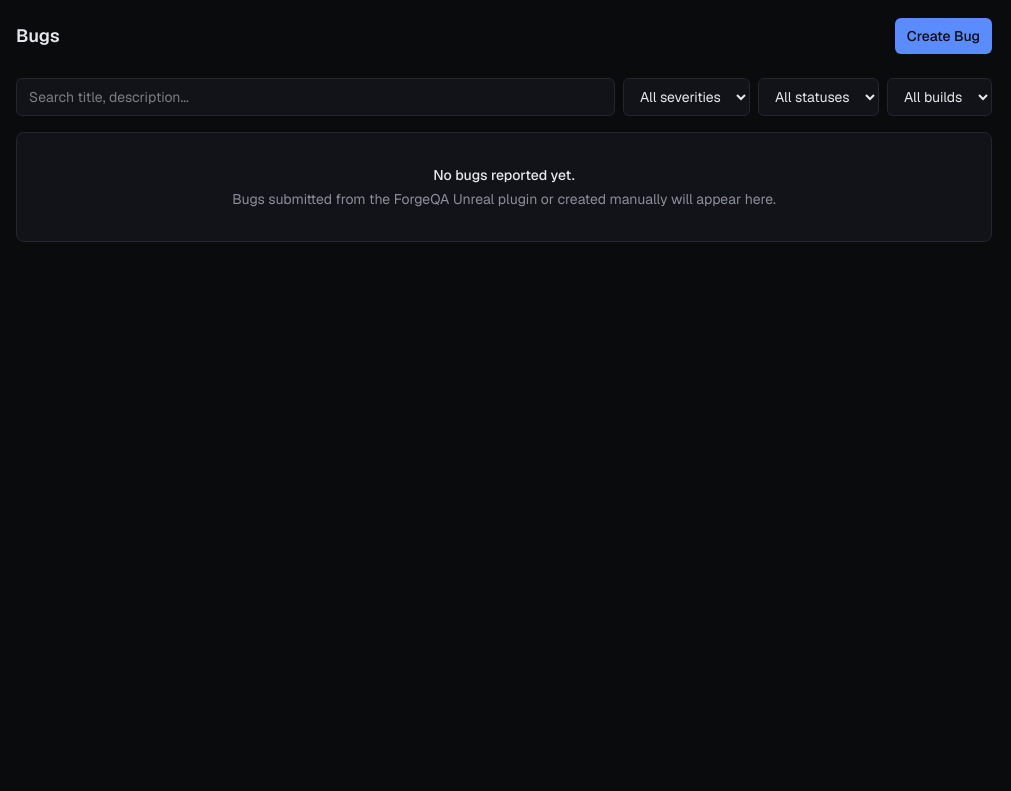
Scenario: BugsPage › validates the title before submitting the create bug form
Click the button "Create Bug" at (943, 36), box [895, 18, 992, 54]
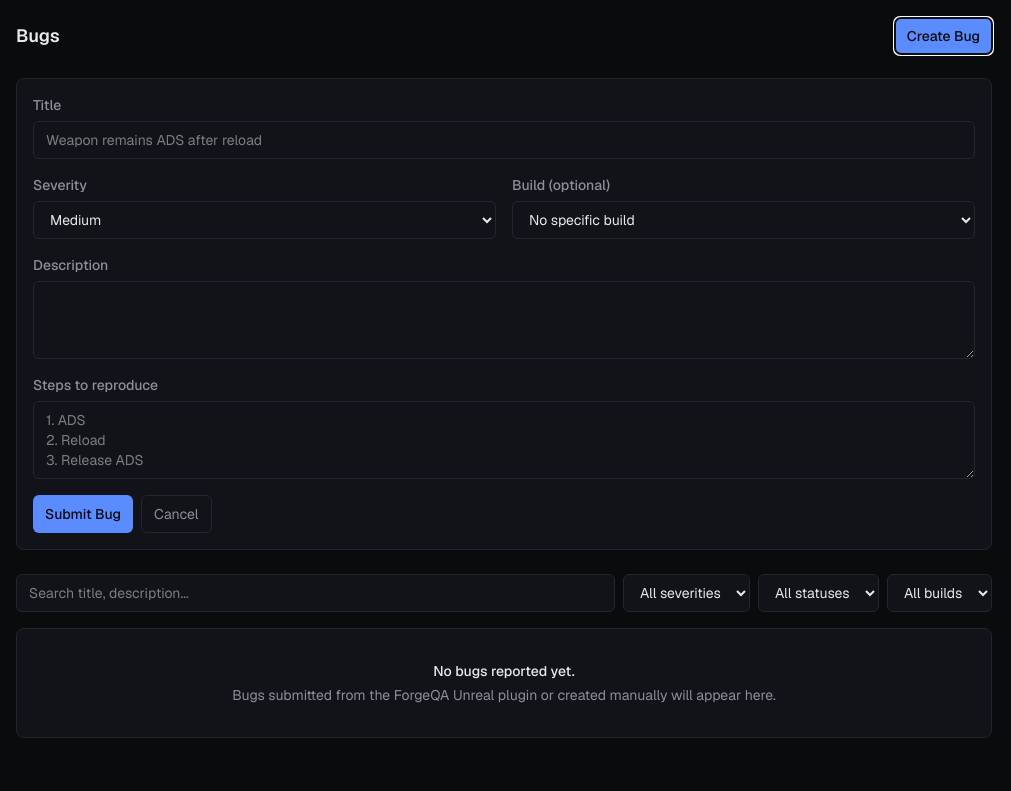
Click the button "Submit Bug" at (83, 514), box [33, 495, 133, 533]
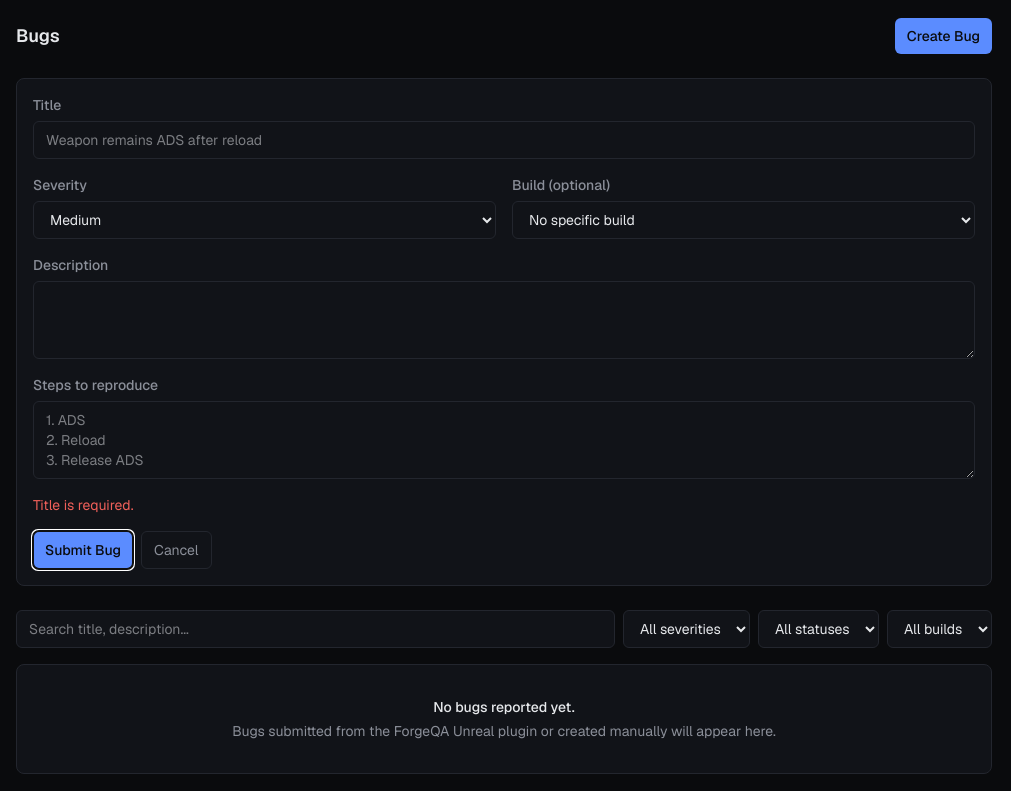
Expected: the text "Title is required." is shown, [33, 496, 134, 514]
